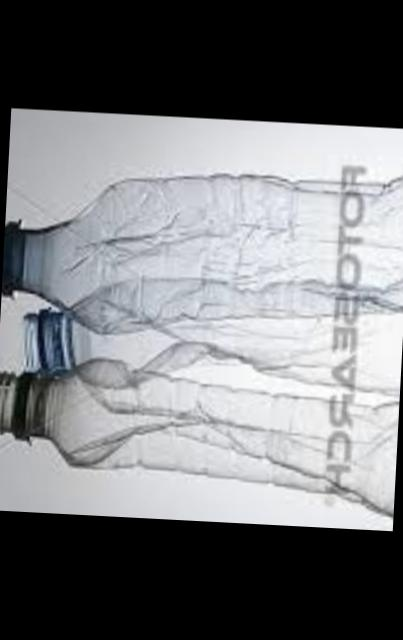plastic: (0, 165, 403, 525)
